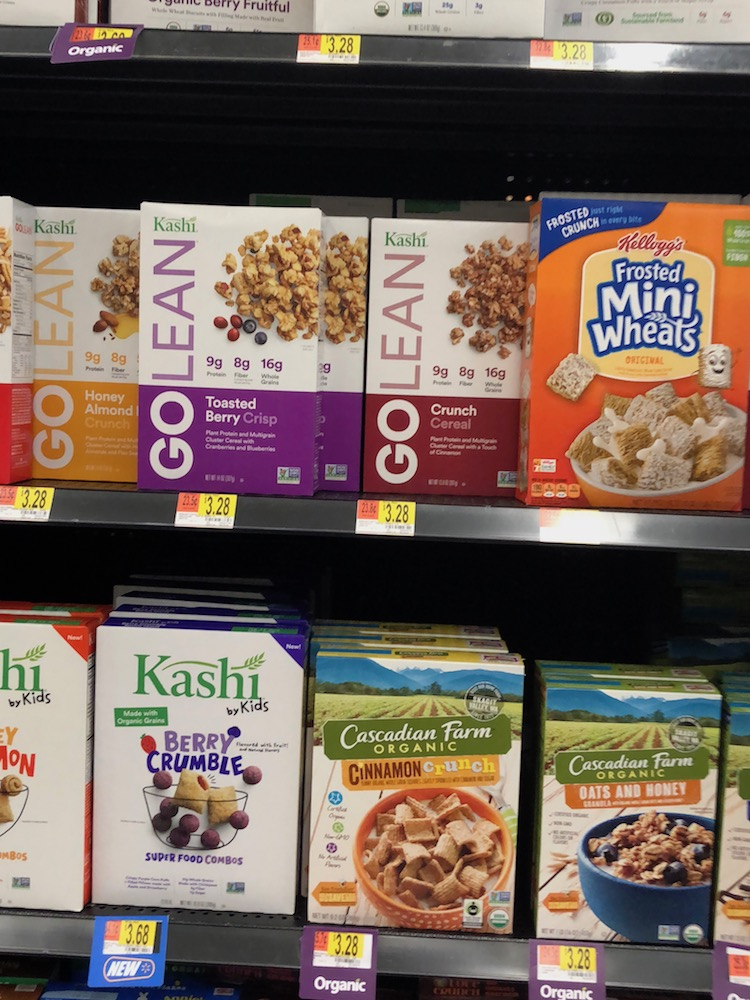Frosted Mini Original -9295869: (536, 197, 745, 505)
